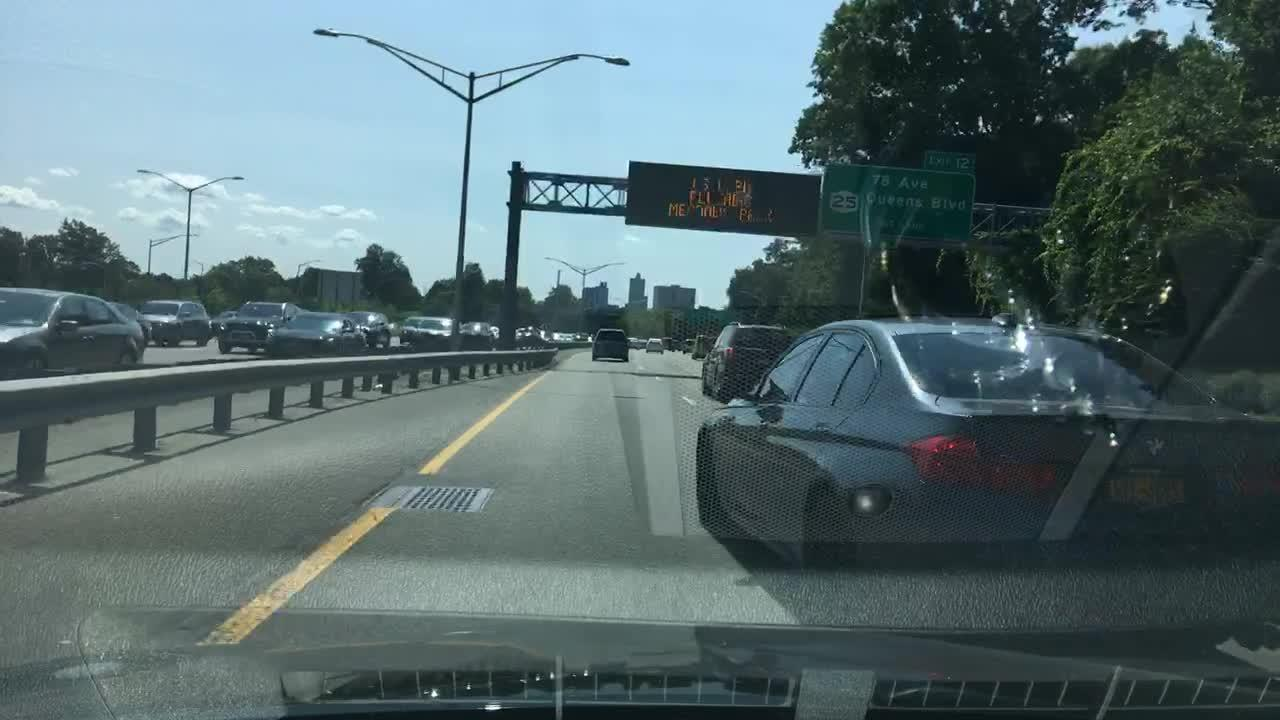bmw: (1142, 431, 1176, 470)
